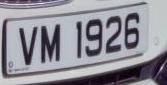1: (70, 16, 86, 67)
2: (104, 13, 124, 55)
6: (122, 10, 144, 52)
9: (82, 15, 106, 59)
M: (39, 18, 64, 71)
V: (15, 22, 40, 71)
